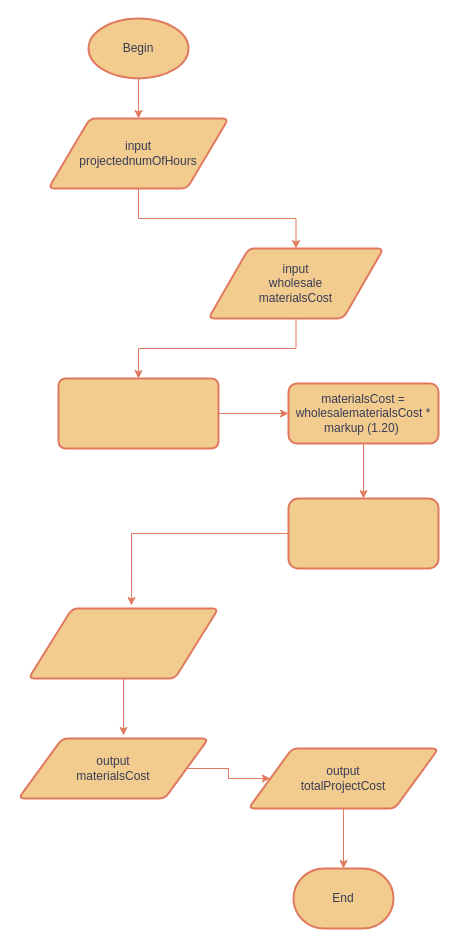
Some shapes in this 456 by 946 pixel diagram are drawn without their labels. The centre of each missing label's shape, as x and y in pixels:
laborCost = projectednumOfHours * hourlyRate ($30): (138,413)
output laborCost: (123,643)
totalProjectCost = laborCost + materialsCost: (363,533)
